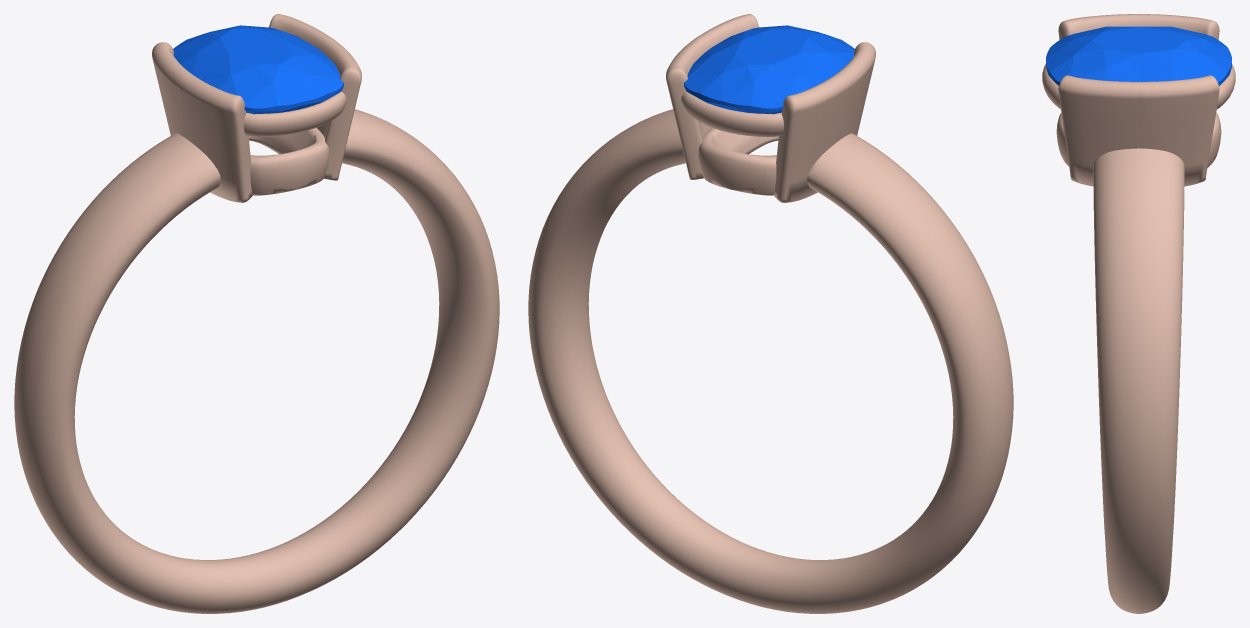
The model's file is bluesapphire-cushion-rosegold-halfmoonbezel-taperedband-nosidestones.glb.
3 renders of one model, left to right at view 1: azimuth 30°, elevation 25°; view 2: azimuth 150°, elevation 25°; view 3: azimuth 270°, elevation 25°, orthographic.
Parts seen in each view (by area): view 1: metal.003, stone; view 2: metal.003, stone; view 3: metal.003, stone.
Boxes of the visible parts, x1,y1,x2,y2 form: metal.003: [14, 14, 499, 613]; stone: [173, 25, 343, 114]; metal.003: [528, 14, 1013, 613]; stone: [684, 25, 854, 114]; metal.003: [1042, 14, 1235, 613]; stone: [1046, 26, 1231, 85].
Size of the model in its own units: 20.5 by 23.24 by 7.42.
